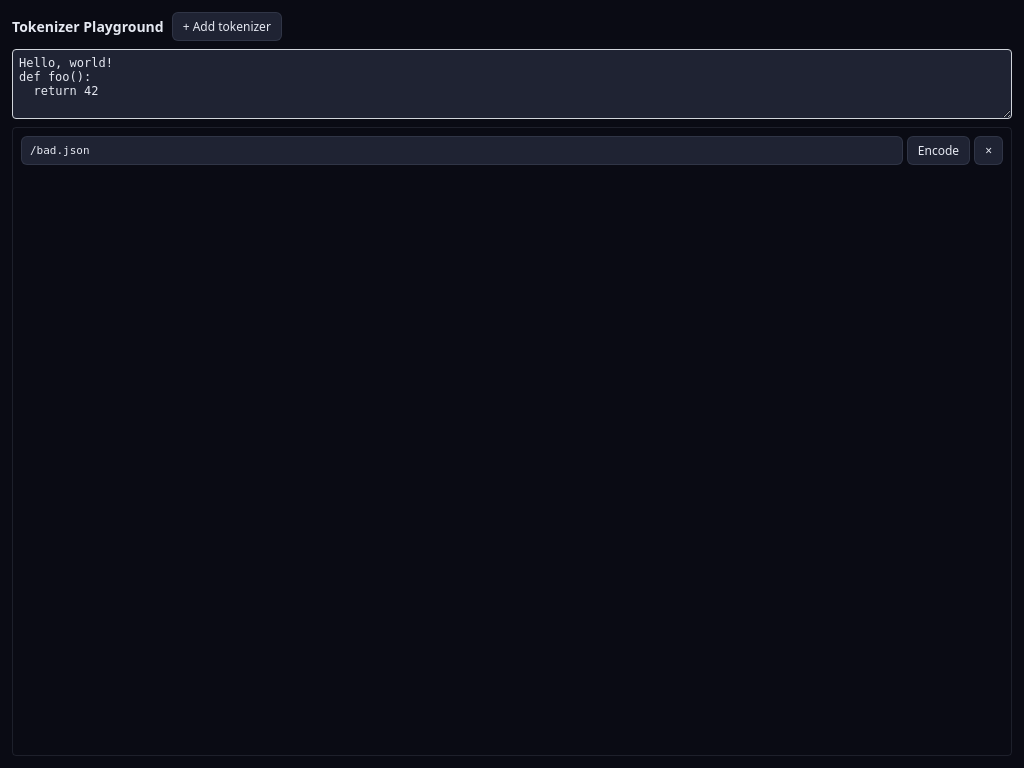
Test: TokenizerPlayground › V7-H46: roundtrip pill renders fail when byte_roundtrip=false
Click the button with test id "tokenizer-encode-0".
click(939, 150)  # box [907, 136, 970, 165]
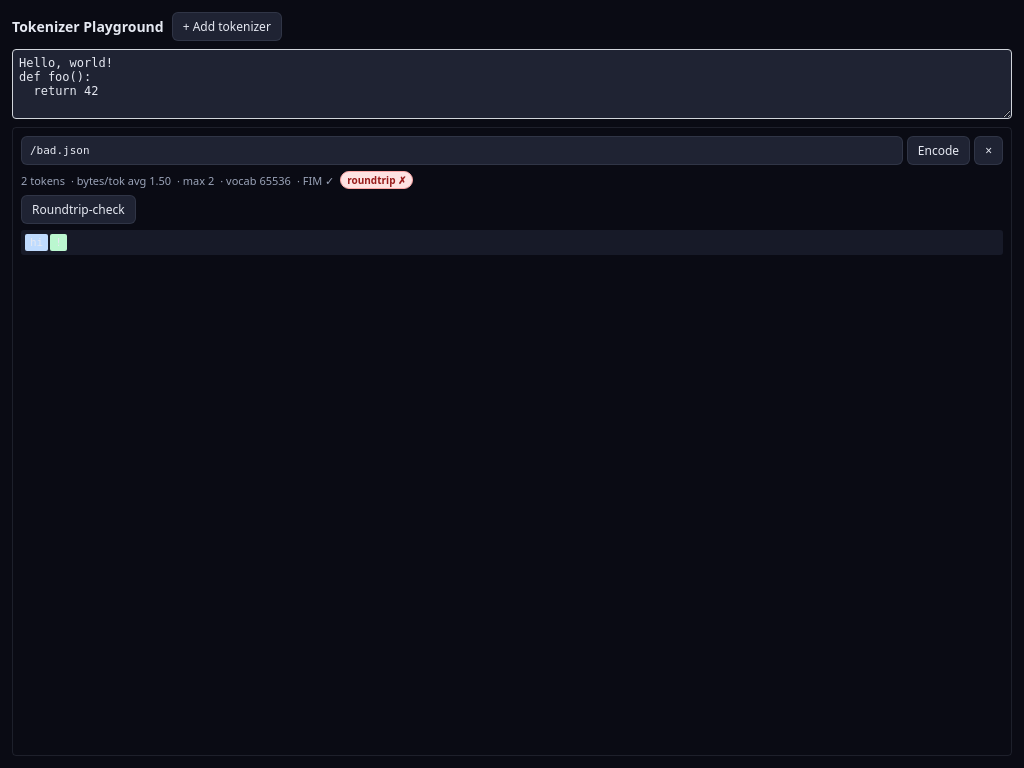
Expected: the text with test id "tokenizer-roundtrip-0" shows "✗", [347, 173, 406, 187]
